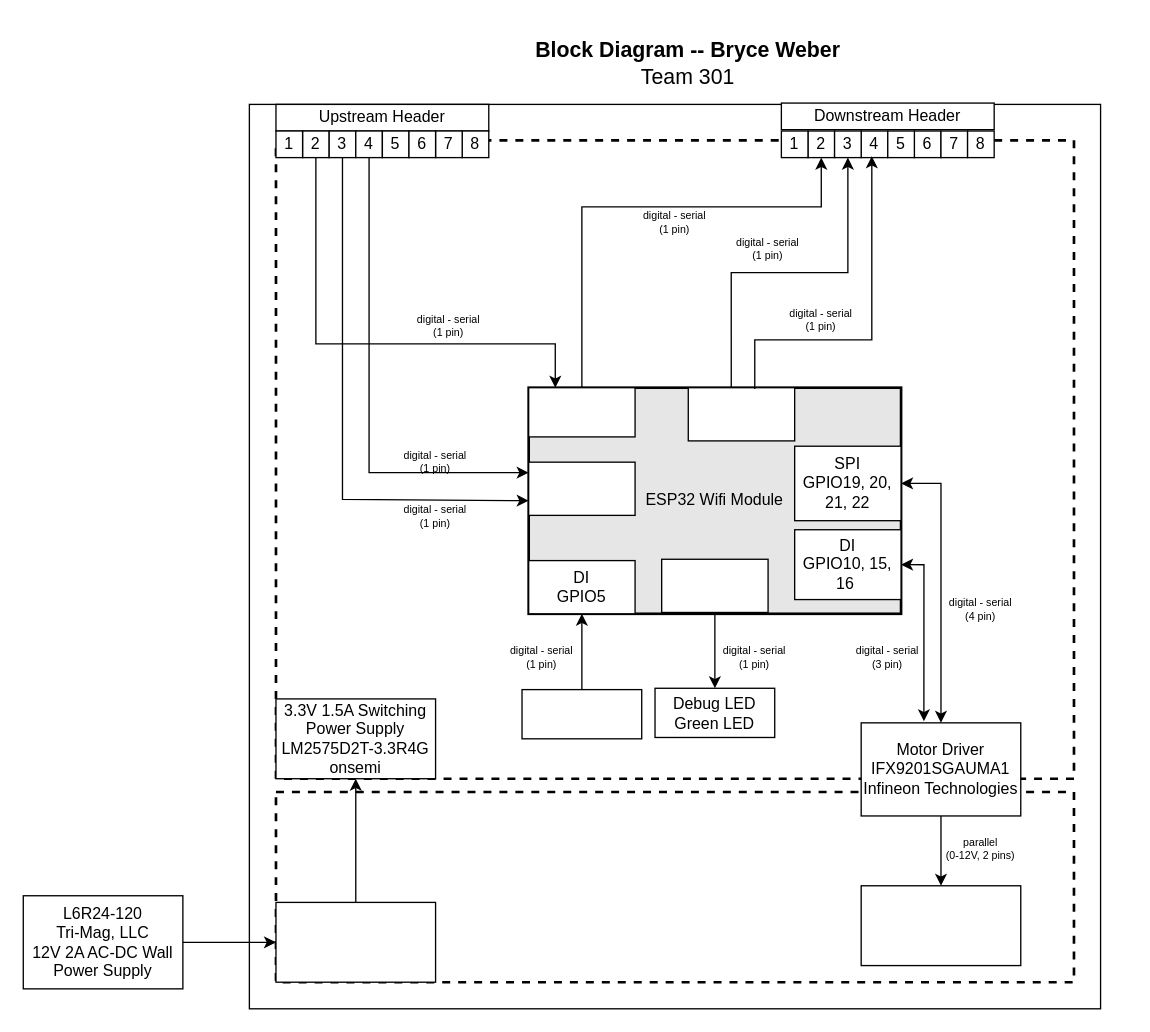
This 1150x1032 diagram has some shape labels left out. Each missing label, with the centre of its shape:
2183-3042-ND Pololu 12V High-Power 25D mm Gearmotor: [940,925]
Barrel Jack Adapter: [355,941]
Debug Button: [581,713]
DI GPIO41, 42: [581,488]
DO GPIO1, 2: [741,413]
DO GPIO6: [714,585]
UART0 RXD0, TXD0: [581,411]
